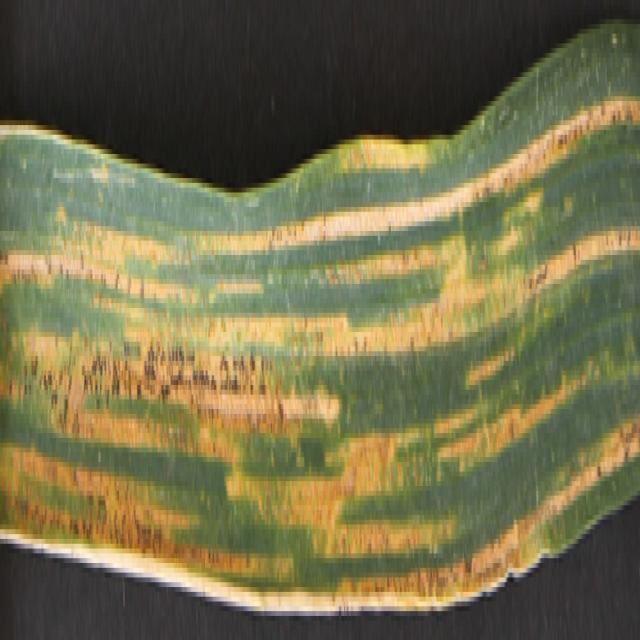leaf rust: (2, 87, 639, 606)
